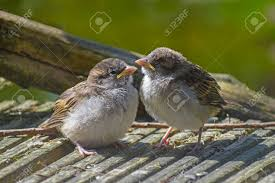hsparrow: (35, 56, 139, 164), (135, 45, 229, 158)
